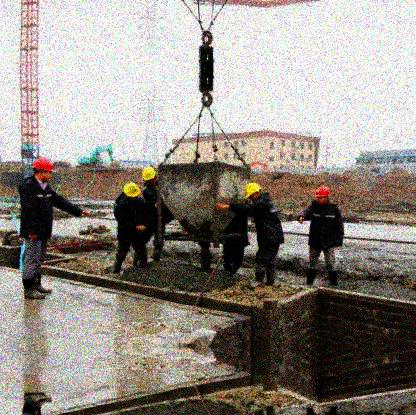helmet: (31, 158, 54, 184), (120, 180, 142, 201), (141, 165, 160, 187), (242, 182, 263, 201), (314, 186, 330, 208)
